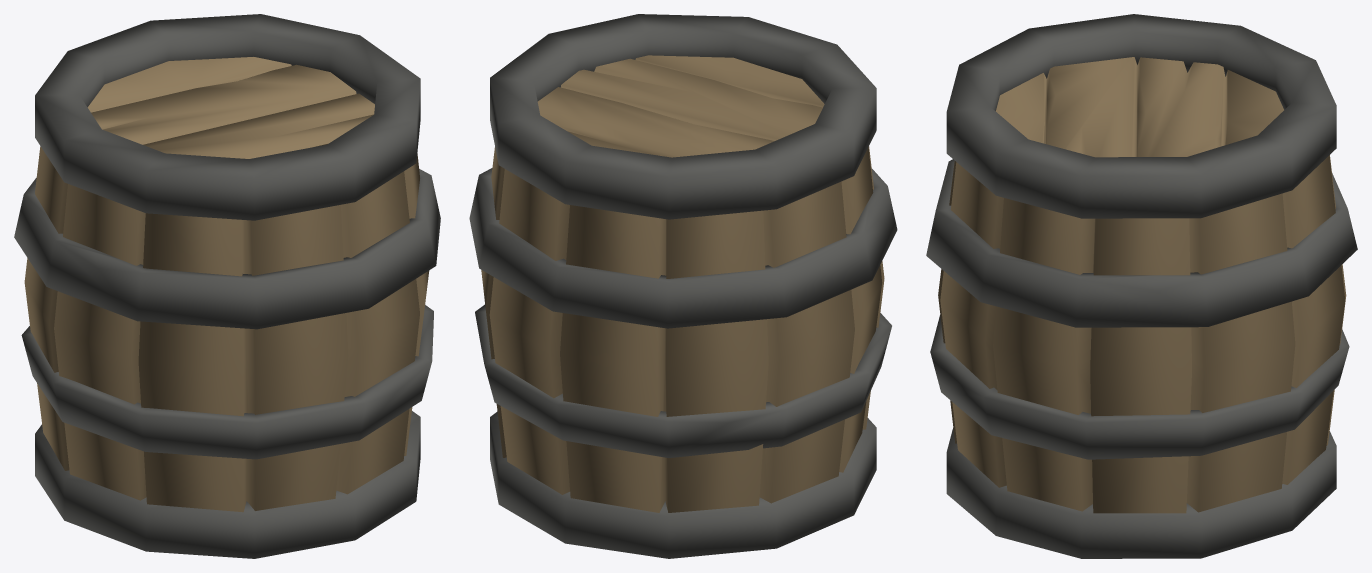
The model's file is rpgpp_ag_barrel_02a.fbx.
3 renders of one model, left to right at view 1: azimuth 30°, elevation 25°; view 2: azimuth 150°, elevation 25°; view 3: azimuth 270°, elevation 25°, orthographic.
Parts seen in each view (by area): view 1: rpgpp_ag_barrel_02a; view 2: rpgpp_ag_barrel_02a; view 3: rpgpp_ag_barrel_02a.
Part boxes in pixels (x1,y1,x2,y2): rpgpp_ag_barrel_02a: (14, 14, 440, 558); rpgpp_ag_barrel_02a: (469, 14, 897, 558); rpgpp_ag_barrel_02a: (926, 14, 1357, 558).
Bounding box in the file's own units: 0.9454 × 0.9467 × 0.9603.
